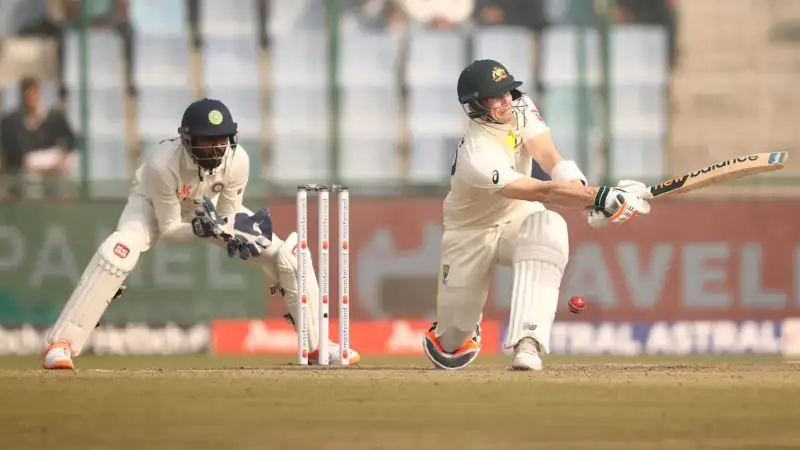Sweepshot: (328, 17, 793, 391)
